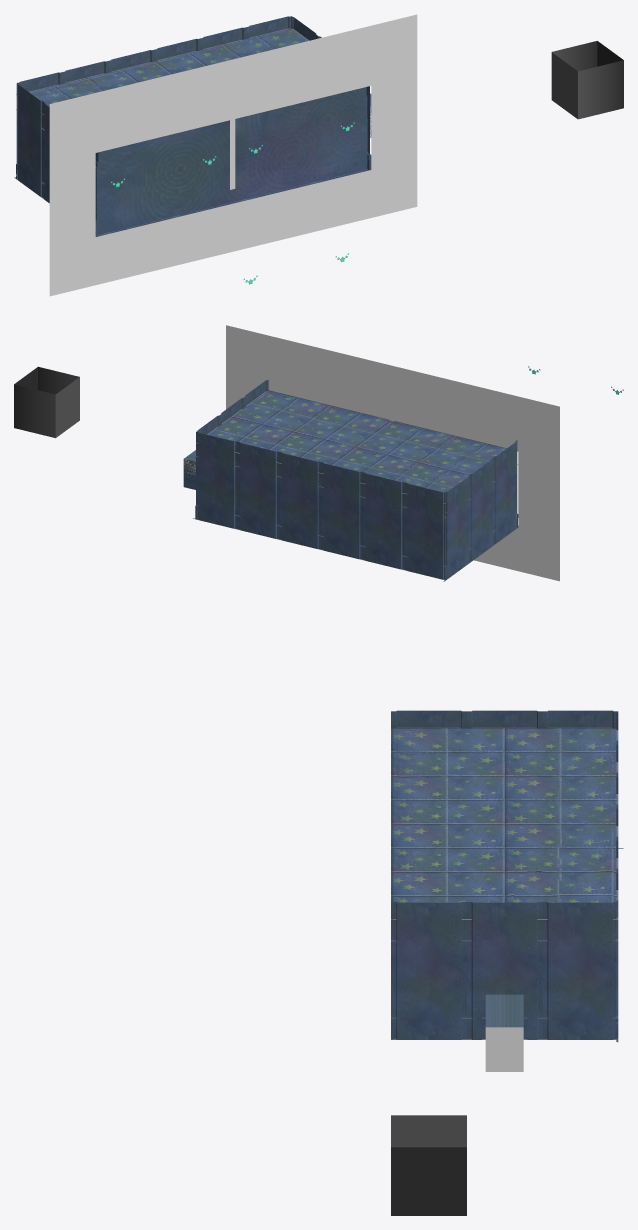
Rendered from las_11.dae.
3 renders of one model, top to bottom at view 1: azimuth 30°, elevation 25°; view 2: azimuth 150°, elevation 25°; view 3: azimuth 270°, elevation 25°, orthographic. The views are drawn at different scales.
Visible parts, largest first — view 1: polySurface387_q00073, pCube4_q00013, pCube1_q00011, pCube1_q00056, polySurface216_q00002, pCube3_q00050, w_bero_1, pCube3_q00051, pCube3_q00028, pCube1_q00057, pCube3_q00023, pCube3_q00027 (+4 smaller); view 2: polySurface387_q00073, pCube1_q00056, pCube1_q00011, pCube3_q00023, pCube3_q00024, pCube3_q00028, pCube3_q00026, pCube3_q00027, pCube3_q00025, polySurface216_q00002, pCube3_q00049, pCube3_q00051 (+3 smaller); view 3: pCube1_q00056, pCube3_q00039, pCube3_q00038, pCube3_q00037, pCube1_q00011, polySurface216_q00002, w_bero_1, polySurface204_q00000, pCube3_q00051, pCube3_q00049, pCube3_q00050, pCube3_q00007.
Boxes of the visible parts, box(x1,y1,x2,y2) form: polySurface387_q00073: box(49, 14, 417, 296); pCube4_q00013: box(96, 87, 367, 234); pCube1_q00011: box(30, 29, 305, 106); pCube1_q00056: box(16, 28, 309, 115); polySurface216_q00002: box(552, 41, 623, 119); pCube3_q00050: box(14, 82, 43, 197); w_bero_1: box(551, 52, 577, 118); pCube3_q00051: box(41, 102, 49, 203); pCube3_q00028: box(16, 72, 62, 164); pCube1_q00057: box(43, 169, 368, 236); pCube3_q00023: box(200, 27, 246, 50); pCube3_q00027: box(62, 61, 108, 83); polySurface387_q00073: box(226, 325, 559, 581); pCube1_q00056: box(196, 390, 517, 503); pCube1_q00011: box(252, 392, 504, 491); pCube3_q00023: box(234, 442, 279, 539); pCube3_q00024: box(276, 452, 321, 549); pCube3_q00028: box(402, 482, 446, 579); pCube3_q00026: box(318, 462, 362, 559); pCube3_q00027: box(360, 472, 404, 569); pCube3_q00025: box(193, 431, 237, 528); polySurface216_q00002: box(14, 366, 79, 437); pCube3_q00049: box(492, 440, 517, 546); pCube3_q00051: box(469, 458, 492, 562); pCube1_q00056: box(391, 727, 618, 919); pCube3_q00039: box(391, 902, 466, 1039); pCube3_q00038: box(537, 902, 616, 1039); pCube3_q00037: box(462, 902, 542, 1039); pCube1_q00011: box(396, 729, 613, 902); polySurface216_q00002: box(391, 1147, 466, 1215); w_bero_1: box(391, 1115, 466, 1147); polySurface204_q00000: box(485, 1027, 523, 1071); pCube3_q00051: box(467, 710, 542, 728); pCube3_q00049: box(391, 710, 466, 728); pCube3_q00050: box(542, 710, 623, 848); pCube3_q00007: box(486, 994, 522, 1027).
Size of the model in its own units: 125 by 40 by 80.55.
